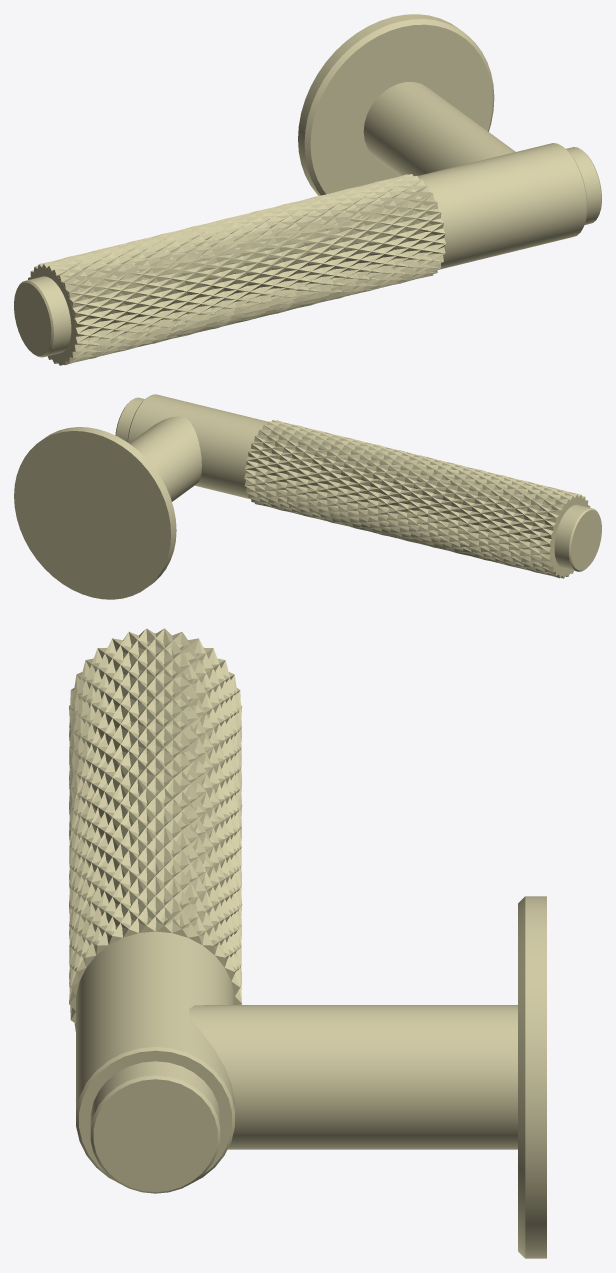
3 renders of one model, top to bottom at view 1: azimuth 30°, elevation 25°; view 2: azimuth 150°, elevation 25°; view 3: azimuth 270°, elevation 25°, orthographic. The views are drawn at different scales.
Visible parts, largest first — view 1: group_2, group_3, group_5, group_6, group_4; view 2: group_6, group_2, group_3, group_5, group_4; view 3: group_4, group_5, group_3, group_2, group_6.
Part boxes in pixels (x1=…): group_2: x1=28, y1=174, x2=445, y2=365; group_3: x1=28, y1=174, x2=445, y2=362; group_5: x1=14, y1=143, x2=601, y2=361; group_6: x1=298, y1=14, x2=494, y2=195; group_4: x1=363, y1=82, x2=515, y2=175; group_6: x1=14, y1=427, x2=176, y2=599; group_2: x1=244, y1=420, x2=590, y2=578; group_3: x1=244, y1=420, x2=588, y2=578; group_5: x1=115, y1=394, x2=601, y2=575; group_4: x1=61, y1=416, x2=201, y2=548; group_4: x1=189, y1=1005, x2=517, y2=1149; group_5: x1=76, y1=633, x2=234, y2=1193; group_3: x1=69, y1=628, x2=241, y2=1031; group_2: x1=69, y1=628, x2=242, y2=1003; group_6: x1=518, y1=896, x2=546, y2=1258.
Bounding box in the file's own units: 0.151 × 0.0659 × 0.05.
